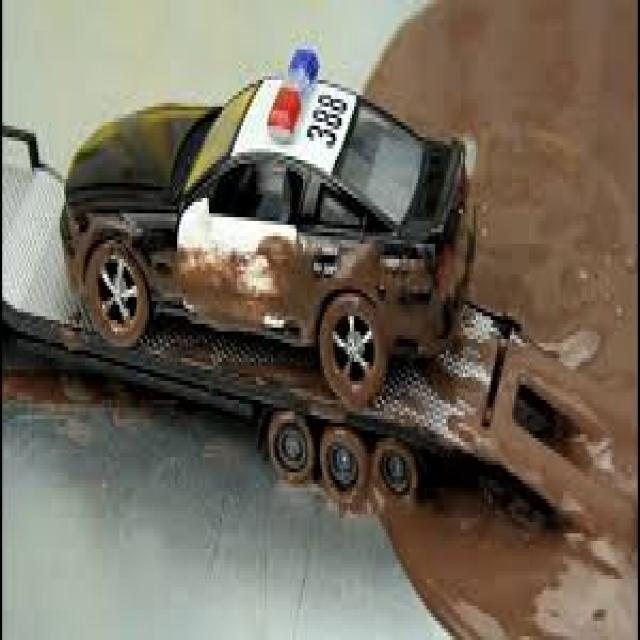Car: (58, 48, 471, 391)
